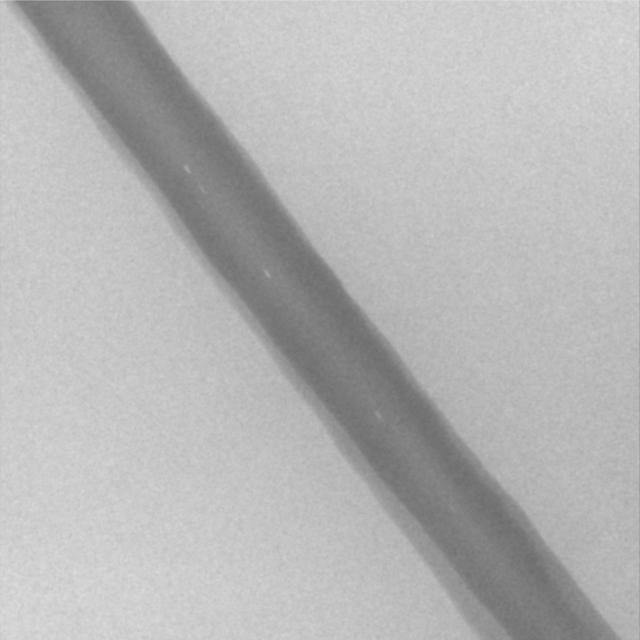air hole: (263, 267, 273, 280), (374, 412, 384, 424), (185, 165, 193, 176)
